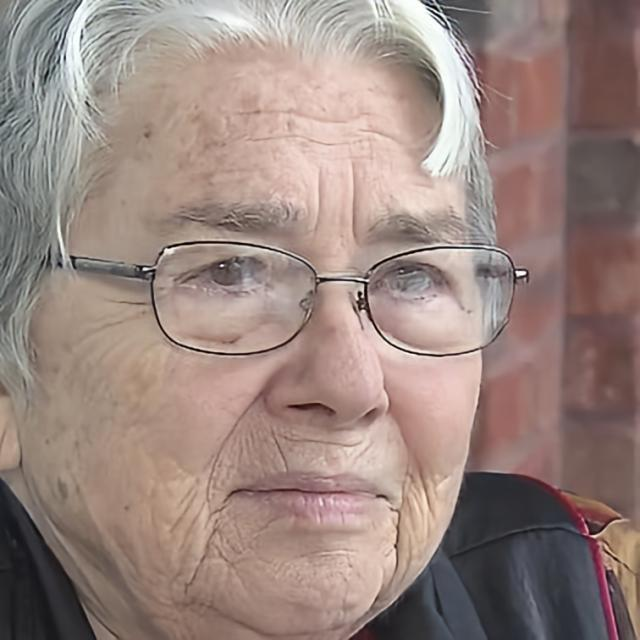sad: (93, 77, 487, 637)
